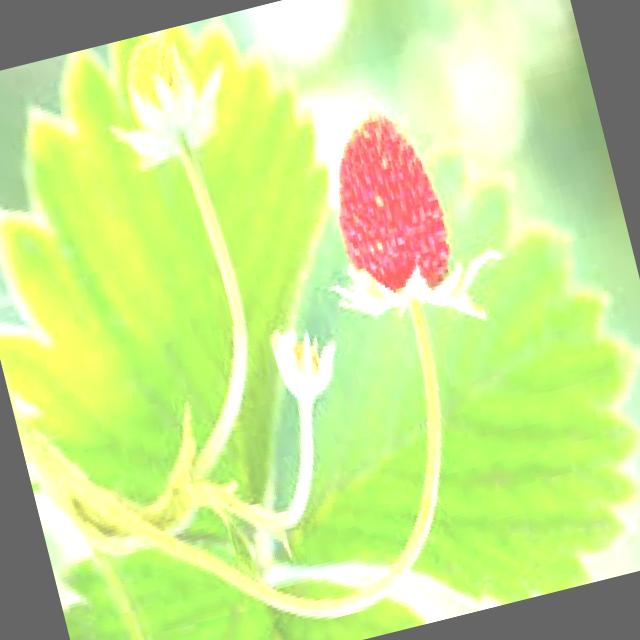Strawberry: (316, 107, 466, 316), (111, 21, 233, 162)
